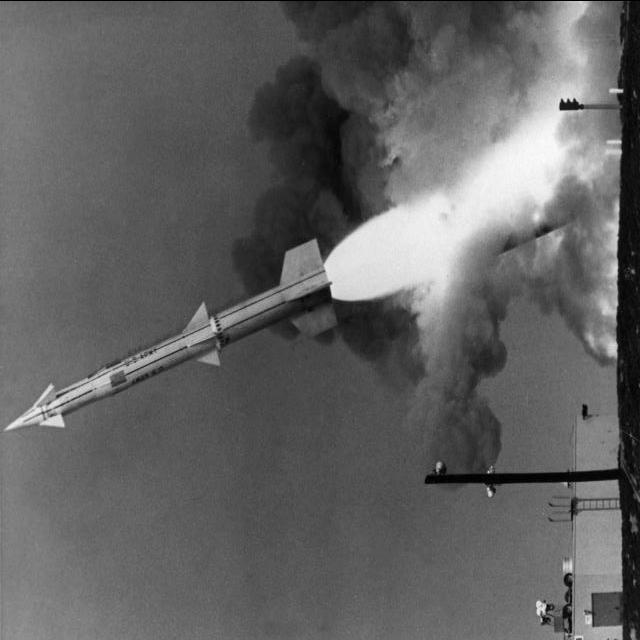Missile: (2, 229, 336, 434)
